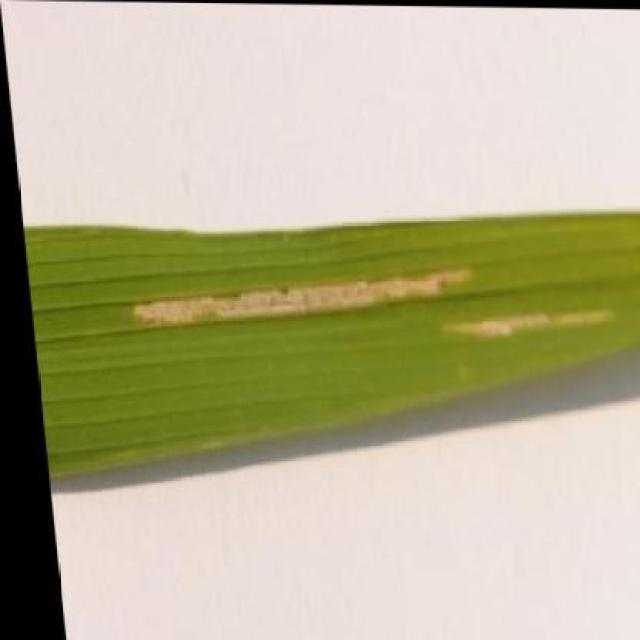Brown_Spot: (18, 195, 636, 498)
